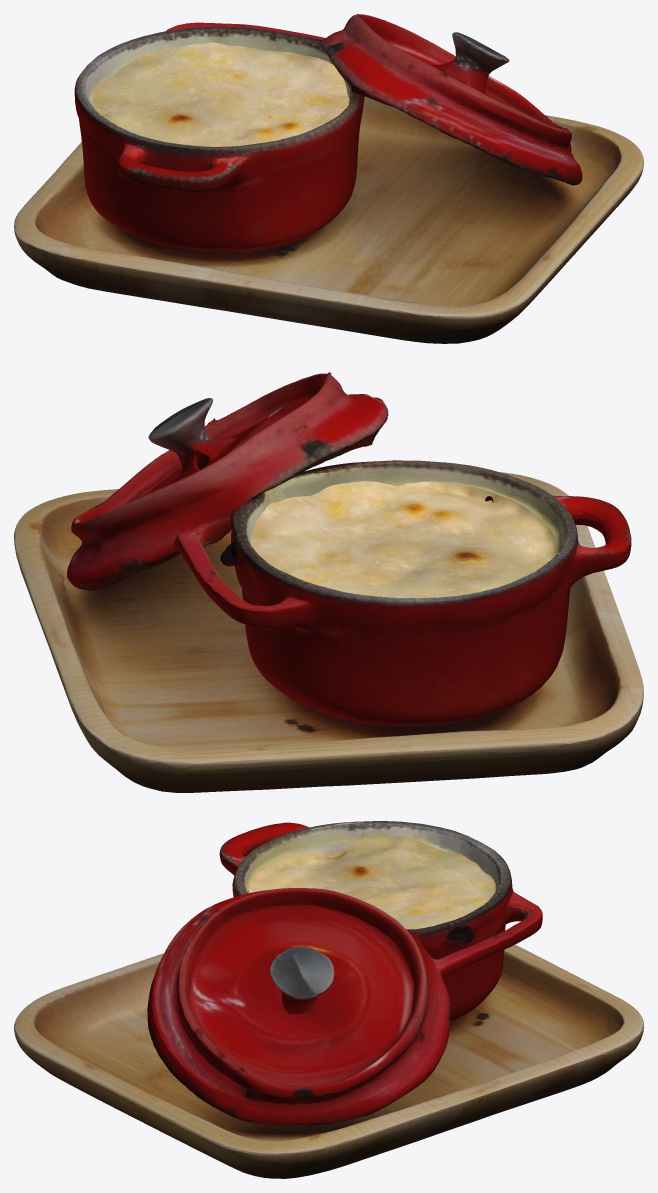
File: ser2.oven.scrambel.001.glb
3 renders of one model, top to bottom at view 1: azimuth 30°, elevation 25°; view 2: azimuth 150°, elevation 25°; view 3: azimuth 270°, elevation 25°, orthographic. The views are drawn at different scales.
Parts seen in each view (by area): view 1: /Root/Scenes/Scene/Object_97/Object_101/Object_102/Submesh_0, /Root/Scenes/Scene/Object_97/Object_98/Submesh_0; view 2: /Root/Scenes/Scene/Object_97/Object_101/Object_102/Submesh_0, /Root/Scenes/Scene/Object_97/Object_98/Submesh_0; view 3: /Root/Scenes/Scene/Object_97/Object_101/Object_102/Submesh_0, /Root/Scenes/Scene/Object_97/Object_98/Submesh_0.
Boxes of the visible parts, x1,y1,x2,y2 form: /Root/Scenes/Scene/Object_97/Object_101/Object_102/Submesh_0: (14,14,643,343); /Root/Scenes/Scene/Object_97/Object_98/Submesh_0: (91,42,349,146); /Root/Scenes/Scene/Object_97/Object_101/Object_102/Submesh_0: (14,372,643,792); /Root/Scenes/Scene/Object_97/Object_98/Submesh_0: (250,481,568,598); /Root/Scenes/Scene/Object_97/Object_101/Object_102/Submesh_0: (14,821,643,1178); /Root/Scenes/Scene/Object_97/Object_98/Submesh_0: (248,822,495,929).
Bounding box in the file's own units: 0.2565 × 0.0887 × 0.261.
2 materials, 2 textured.
